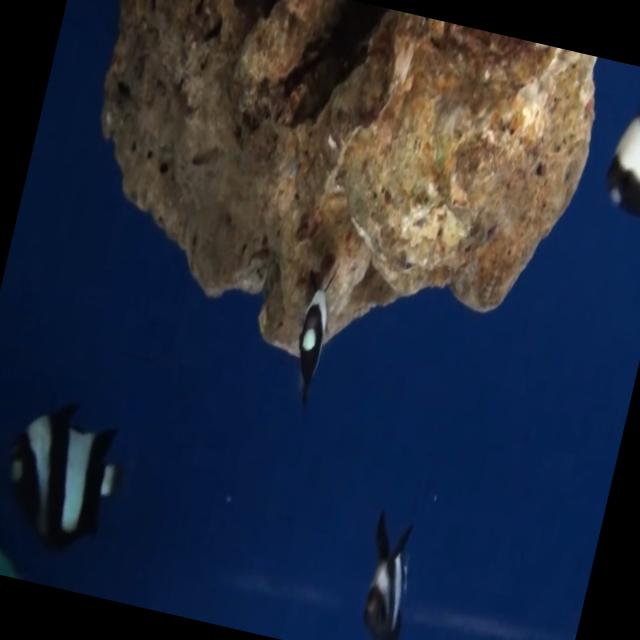ThreeStripedDamselfish: (6, 398, 118, 550), (361, 508, 412, 640), (296, 253, 338, 406), (604, 99, 640, 217)
